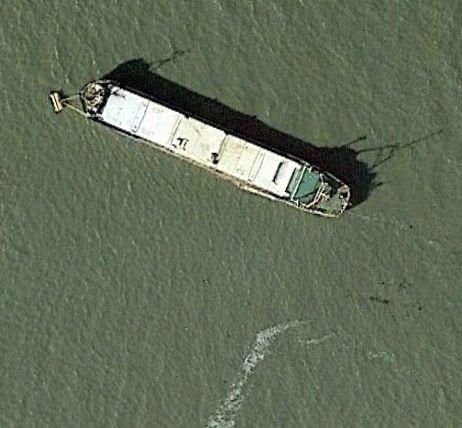Boat: (78, 76, 354, 223)
